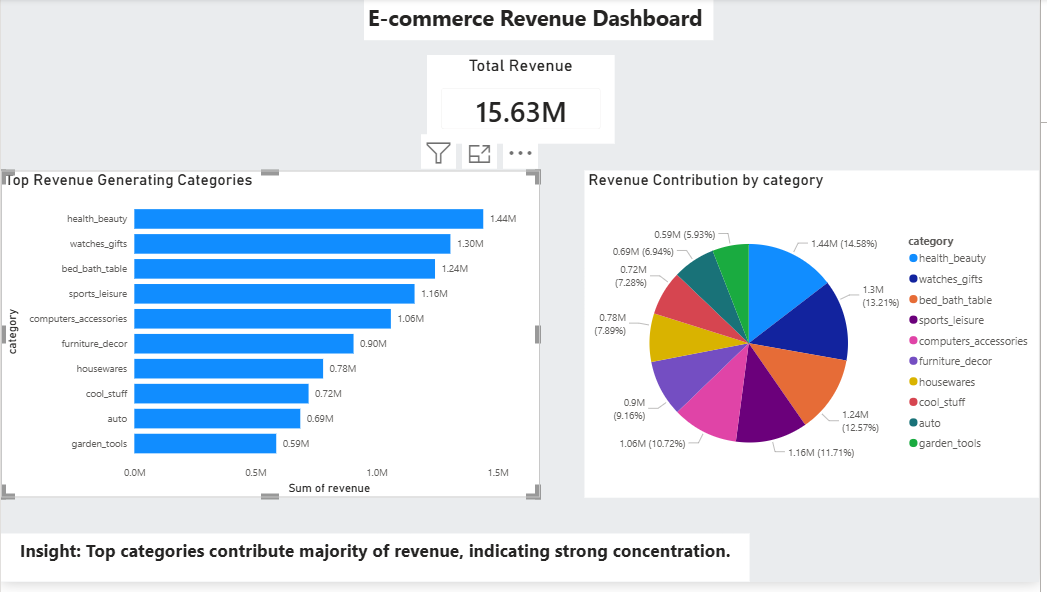

The page's visual inventory and layout, read from the dashboard file:
{"tool":"powerbi","page":{"name":"Page 1","canvas":[1280,720],"ordinal":0},"visuals":[{"type":"barChart","title":"Top Revenue Generating Categories","fields":{"Category":["final_dataset.category"],"Y":["Sum(final_dataset.revenue)"]},"box":[0,212.6,663.7,403],"z":0},{"type":"cardVisual","title":"Total Revenue","fields":{"Data":["Sum(final_dataset.revenue)"]},"box":[525.1,70.3,231.1,109.1],"z":1000},{"type":"pieChart","title":"Revenue Contribution by category","fields":{"Y":["Sum(final_dataset.revenue)"],"Category":["final_dataset.category"]},"box":[719.2,212.6,560.2,403],"z":2000},{"type":"textbox","box":[447.4,0,430.8,51.8],"z":2001},{"type":"textbox","box":[0,660,922.6,59.2],"z":2002}]}

Visuals, with their boxes in screenshot pixels (x1, y1, x2, y2), scaled from the page's 1280x720 canvas onto the 1047x592 screenshot:
"Top Revenue Generating Categories" barChart: [x1=0, y1=175, x2=543, y2=506]
"Total Revenue" cardVisual: [x1=430, y1=58, x2=619, y2=148]
"Revenue Contribution by category" pieChart: [x1=588, y1=175, x2=1046, y2=506]
textbox: [x1=366, y1=0, x2=718, y2=43]
textbox: [x1=0, y1=543, x2=755, y2=591]
